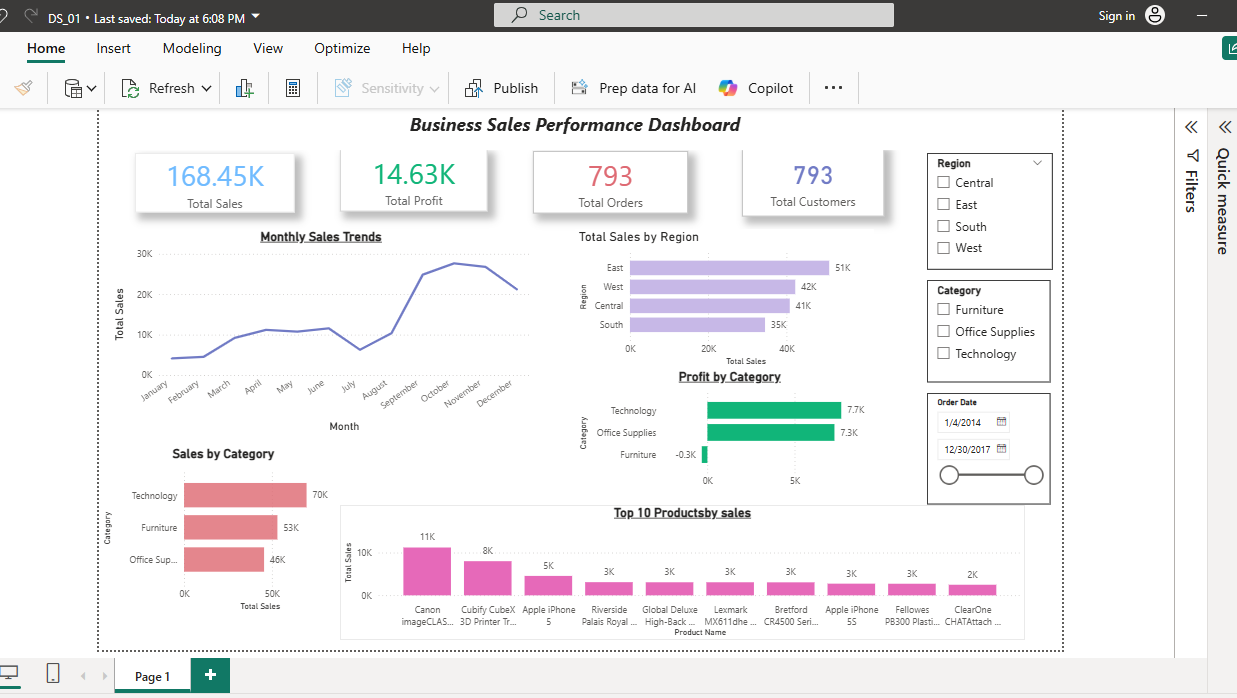

Layout of this report page (visuals, bound fields, positions):
{"tool":"powerbi","page":{"name":"Page 1","canvas":[1280,720],"ordinal":0},"visuals":[{"type":"card","fields":{"Values":["Sample - Superstore.Total Sales"]},"box":[48.3,60,212.2,79],"z":0},{"type":"card","fields":{"Values":["Sample - Superstore.Total Orders"]},"box":[576.6,57.1,206.3,83.4],"z":1},{"type":"card","fields":{"Values":["Sample - Superstore.Total Profit"]},"box":[320.5,54.1,196.1,83.4],"z":2},{"type":"card","fields":{"Values":["Sample - Superstore.Total Customers"]},"box":[854.6,49.8,188.8,95.1],"z":3},{"type":"lineChart","title":"Monthly Sales Trends","fields":{"Y":["Sample - Superstore.Total Sales"],"Category":["Sample - Superstore.Order Date.Variation.Date Hierarchy.Month"]},"box":[13.2,161,563.4,275.1],"z":4},{"type":"clusteredBarChart","title":" Sales by Category","fields":{"Category":["Sample - Superstore.Category"],"Y":["Sample - Superstore.Total Sales"]},"box":[0,449.3,330.7,223.9],"z":5},{"type":"clusteredBarChart","title":"Profit by Category","fields":{"Category":["Sample - Superstore.Category"],"Y":["Sample - Superstore.Total Profit"]},"box":[632.2,346.8,411.2,166.8],"z":6},{"type":"clusteredBarChart","fields":{"Category":["Sample - Superstore.Region"],"Y":["Sample - Superstore.Total Sales"]},"box":[632.2,161,396.6,185.9],"z":7},{"type":"clusteredColumnChart","title":"Top 10 Productsby sales","fields":{"Category":["Sample - Superstore.Product Name"],"Y":["Sample - Superstore.Total Sales"]},"box":[320.5,526.8,910.2,180],"z":8},{"type":"slicer","fields":{"Values":["Sample - Superstore.Region"]},"box":[1100.5,60,166.8,155.1],"z":9},{"type":"slicer","fields":{"Values":["Sample - Superstore.Category"]},"box":[1100.5,228.3,163.9,136.1],"z":10},{"type":"slicer","fields":{"Values":["Sample - Superstore.Order Date"]},"box":[1100.5,379,163.9,147.8],"z":11},{"type":"textbox","box":[0,0,1264.4,55.6],"z":12}]}

Visuals, with their boxes on the page's 1280x720 design canvas (x1, y1, x2, y2). These are canvas units, not pixel positions in the 1237x698 screenshot, which may show the page scaled, cropped or inside an application window:
card - Sample - Superstore.Total Sales: l=48, t=60, r=260, b=139
card - Sample - Superstore.Total Orders: l=577, t=57, r=783, b=140
card - Sample - Superstore.Total Profit: l=320, t=54, r=517, b=138
card - Sample - Superstore.Total Customers: l=855, t=50, r=1043, b=145
"Monthly Sales Trends" lineChart: l=13, t=161, r=577, b=436
" Sales by Category" clusteredBarChart: l=0, t=449, r=331, b=673
"Profit by Category" clusteredBarChart: l=632, t=347, r=1043, b=514
clusteredBarChart - Sample - Superstore.Region x Sample - Superstore.Total Sales: l=632, t=161, r=1029, b=347
"Top 10 Productsby sales" clusteredColumnChart: l=320, t=527, r=1231, b=707
slicer - Sample - Superstore.Region: l=1100, t=60, r=1267, b=215
slicer - Sample - Superstore.Category: l=1100, t=228, r=1264, b=364
slicer - Sample - Superstore.Order Date: l=1100, t=379, r=1264, b=527
textbox: l=0, t=0, r=1264, b=56
